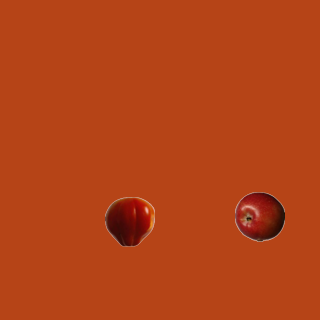Apple Braeburn: (234, 191, 284, 241)
Tomato 1: (104, 196, 154, 246)
